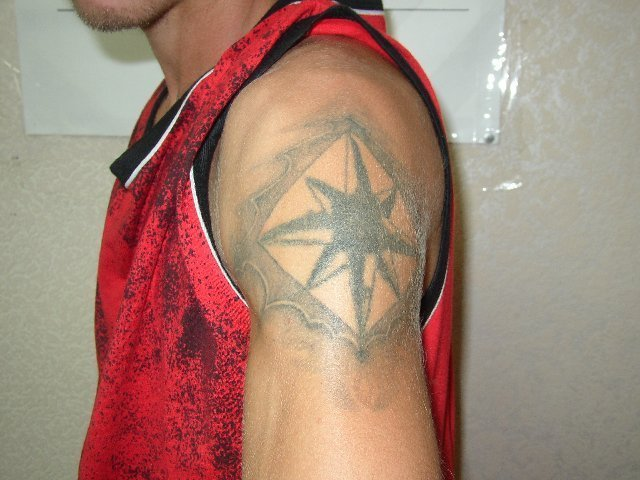tatu4_zvezda: (261, 136, 421, 333)
